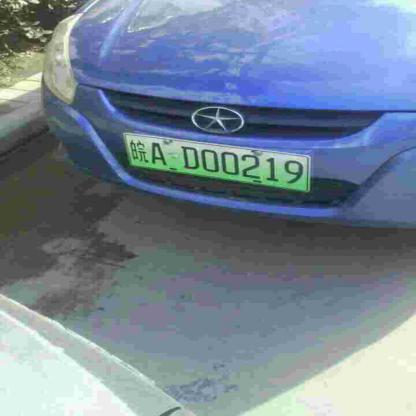lp: (125, 135, 310, 191)
